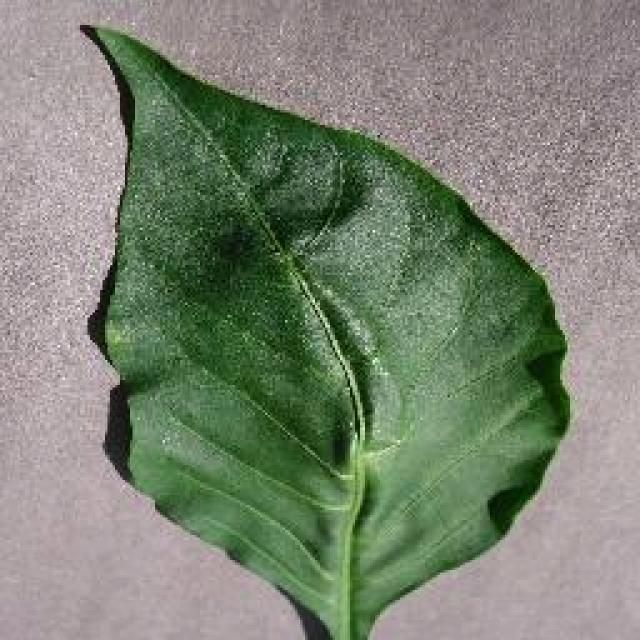Leaf: (101, 78, 596, 540)
